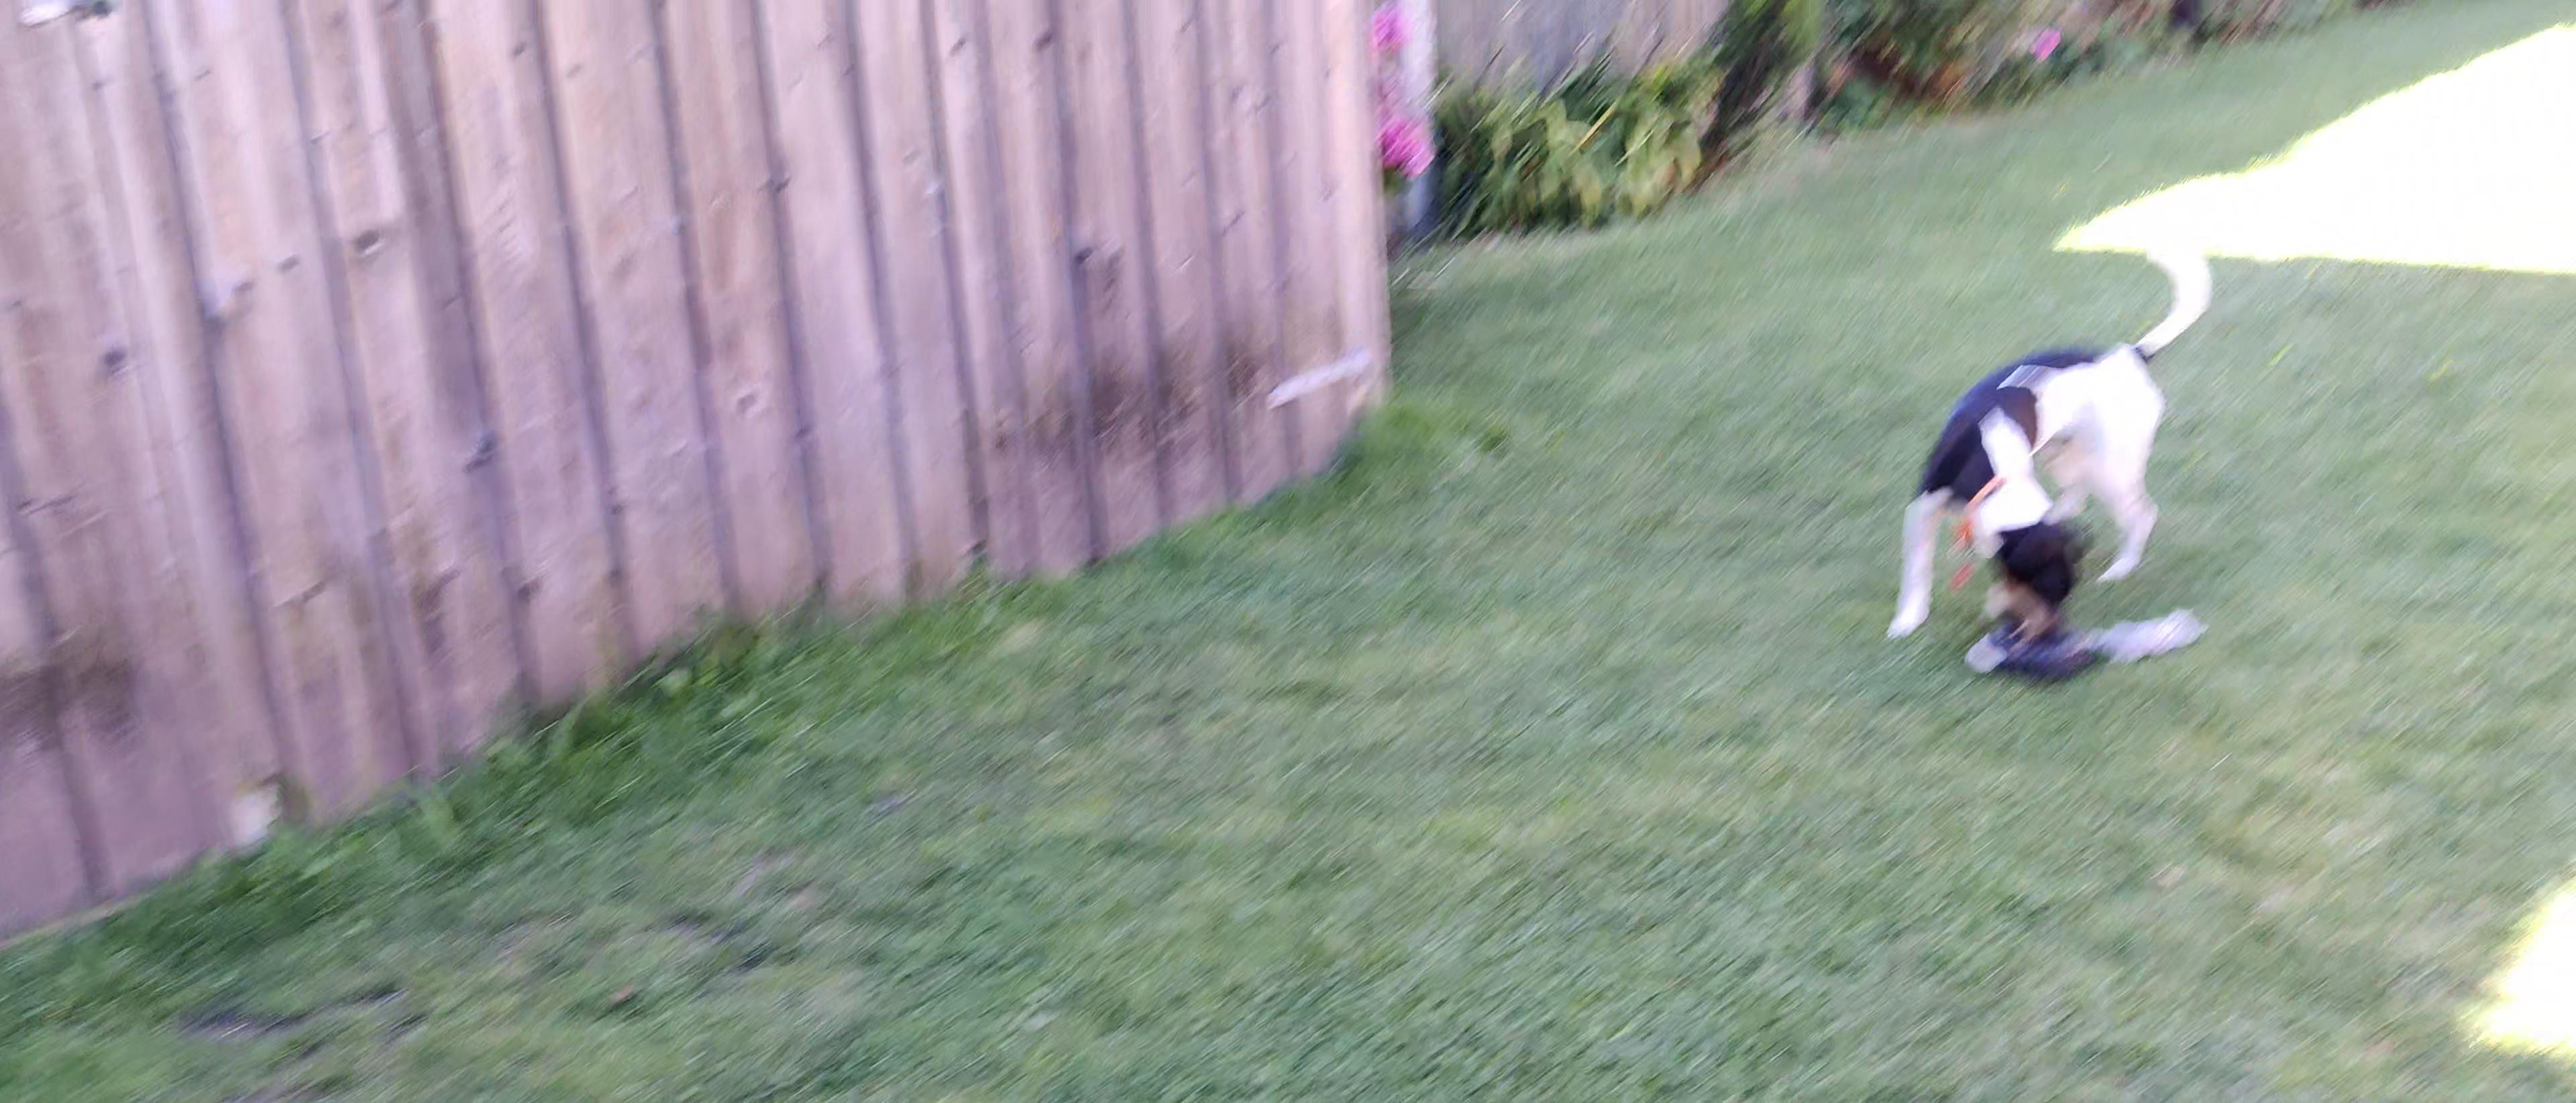Dog: (1860, 222, 2221, 658)
